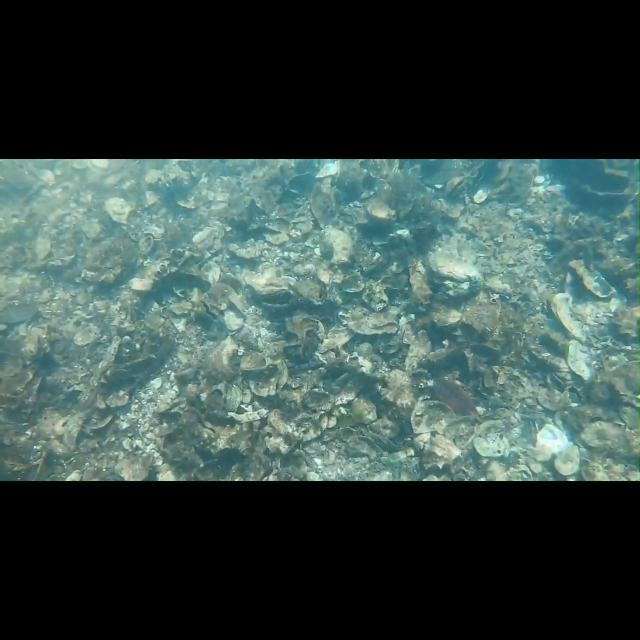Oyster-Closed: (429, 242, 480, 296), (550, 292, 586, 341), (569, 260, 615, 298), (248, 358, 288, 397), (411, 400, 456, 434), (422, 436, 462, 469), (242, 268, 297, 292), (324, 229, 351, 262), (365, 198, 396, 225), (105, 198, 132, 224), (218, 382, 242, 411), (240, 352, 266, 370)
Oyster-Open: (346, 308, 398, 335), (252, 286, 300, 312), (444, 175, 470, 195)
